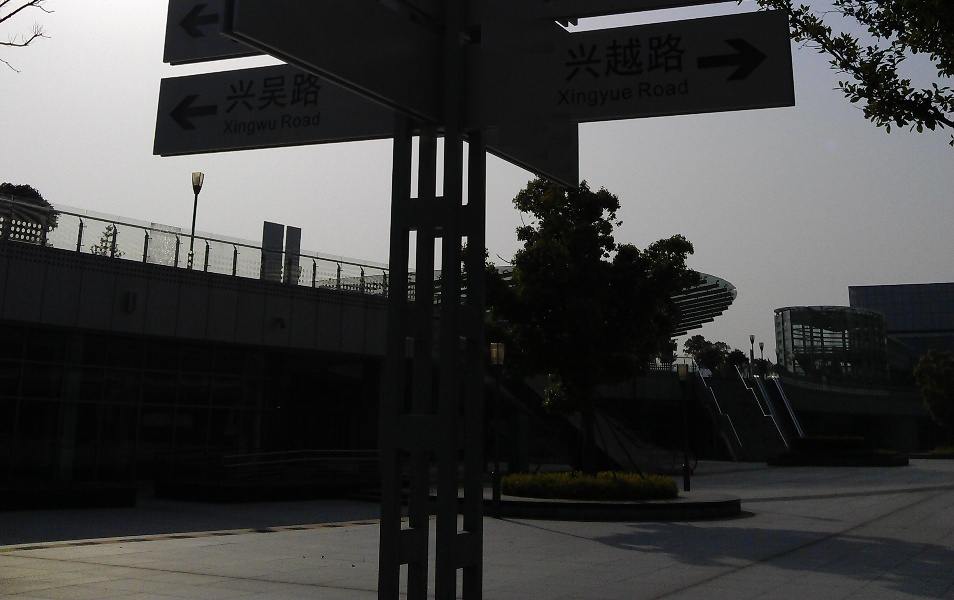text: (561, 32, 576, 85), (577, 32, 592, 85), (593, 32, 608, 85), (609, 32, 624, 85), (625, 32, 640, 85), (641, 32, 656, 85), (657, 32, 672, 85), (673, 32, 686, 85), (225, 69, 240, 114), (241, 69, 256, 114), (257, 69, 272, 114), (273, 69, 288, 114), (289, 69, 304, 114), (305, 69, 320, 114), (561, 84, 576, 109), (577, 84, 592, 109), (593, 84, 608, 109), (609, 84, 624, 109), (225, 116, 240, 138), (241, 116, 256, 138), (257, 116, 272, 138), (641, 79, 656, 99), (657, 79, 672, 99), (673, 79, 688, 99), (305, 112, 321, 129), (289, 112, 304, 129), (625, 84, 634, 109), (281, 112, 288, 129), (273, 116, 278, 138), (557, 84, 560, 109), (223, 69, 224, 114), (638, 79, 640, 99), (689, 79, 690, 99)
